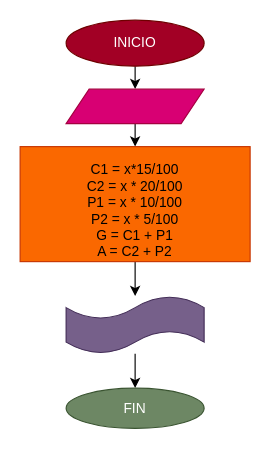
Image size: 270x449. Some labels were removed from this diagram. The shapes that lost their labels are listed below. From the top down, each one's centre as x and y in pixels, then its label:
point (134, 106): C1,P1,C2,P2
point (134, 324): G , A
